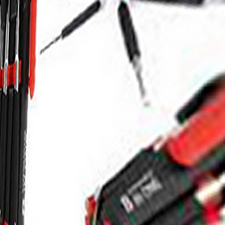Screwdriver: (48, 1, 166, 110)
